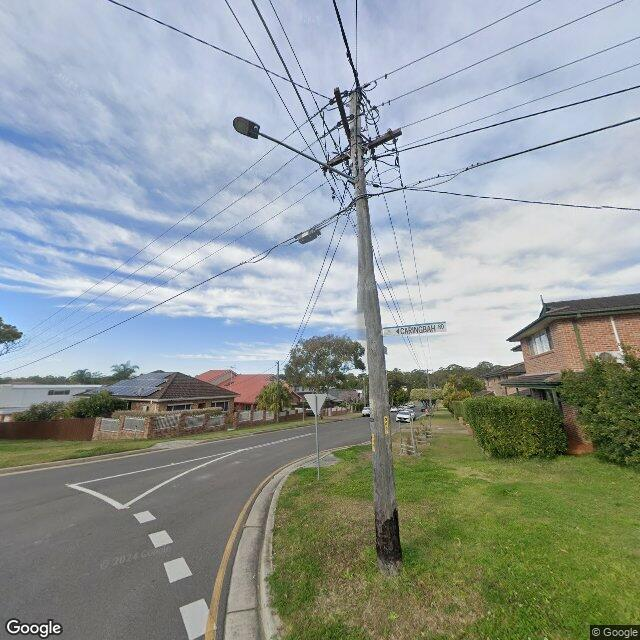crossarm: (322, 127, 402, 171), (334, 86, 351, 144)
streetlight: (231, 115, 360, 182)
timber-pole: (350, 87, 402, 560), (276, 360, 280, 424)
